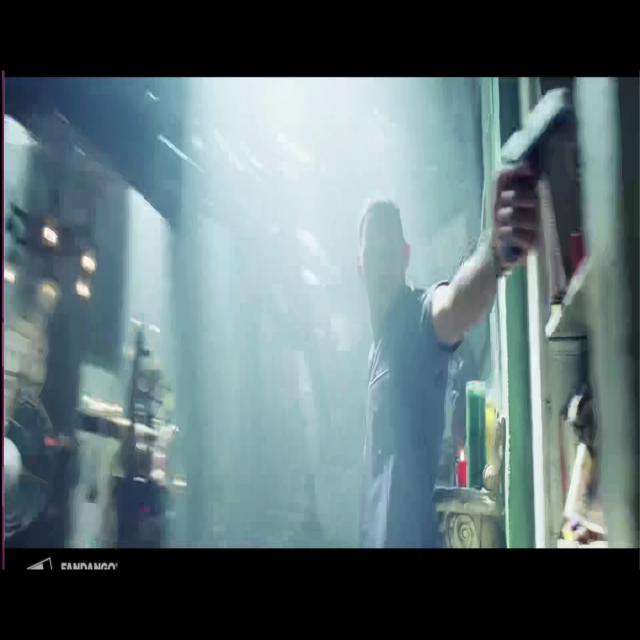weapons: (482, 79, 583, 274)
